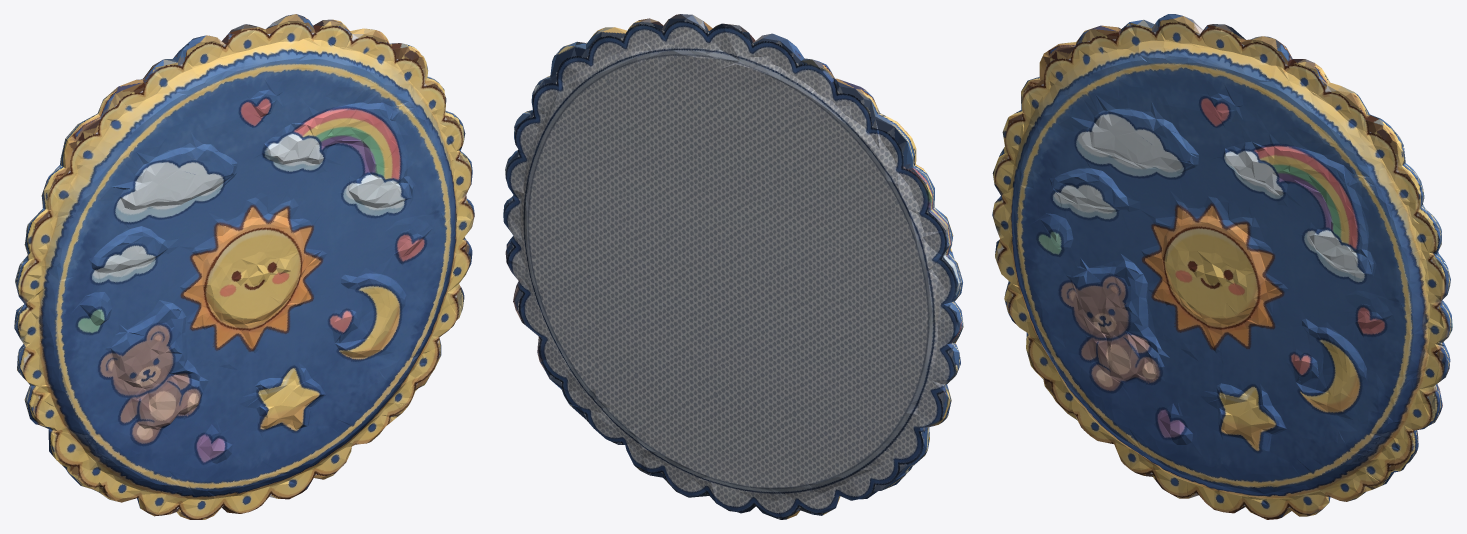
File: rug.glb
3 views of the same model, side by side, from view 1: azimuth 30°, elevation 25°; view 2: azimuth 150°, elevation 25°; view 3: azimuth 330°, elevation 25° (orthographic).
Visible parts, largest first — view 1: geometry_0; view 2: geometry_0; view 3: geometry_0.
Part boxes in pixels (bbox=[...]): geometry_0: bbox=[14, 14, 474, 519]; geometry_0: bbox=[503, 14, 963, 519]; geometry_0: bbox=[992, 14, 1452, 519].
Size of the model in its own units: 1.39 by 1.4 by 0.0929.
Materials: 1 (1 with a texture image).
